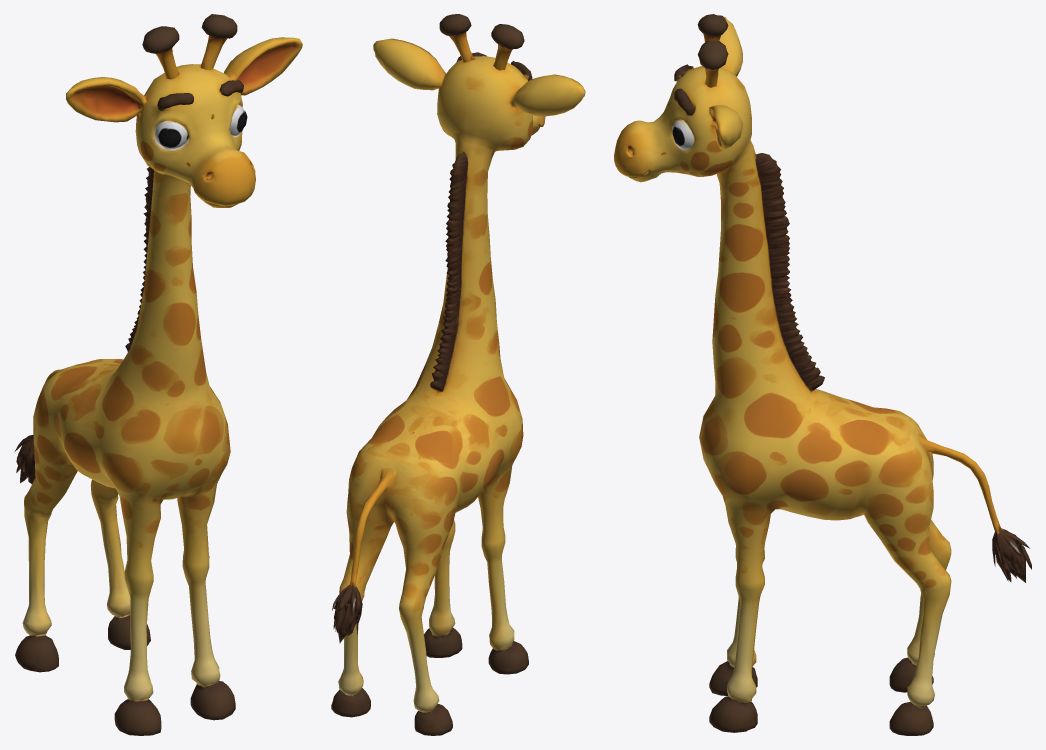
Rendered from giraffe.glb.
The picture shows the model from 3 angles, left to right: view 1: azimuth 30°, elevation 25°; view 2: azimuth 150°, elevation 25°; view 3: azimuth 270°, elevation 25°; orthographic projection. The views are drawn at different scales.
Visible parts, largest first — view 1: tripo_node_9c6641c0-7649-43d1-844b-b8d8f5c68805; view 2: tripo_node_9c6641c0-7649-43d1-844b-b8d8f5c68805; view 3: tripo_node_9c6641c0-7649-43d1-844b-b8d8f5c68805.
Boxes of the visible parts, bbox=[...] form: tripo_node_9c6641c0-7649-43d1-844b-b8d8f5c68805: bbox=[14, 14, 302, 735]; tripo_node_9c6641c0-7649-43d1-844b-b8d8f5c68805: bbox=[331, 14, 585, 735]; tripo_node_9c6641c0-7649-43d1-844b-b8d8f5c68805: bbox=[614, 14, 1031, 735].
Size of the model in its own units: 0.3496 by 0.998 by 0.5566.
Materials: 1 (1 with a texture image).
